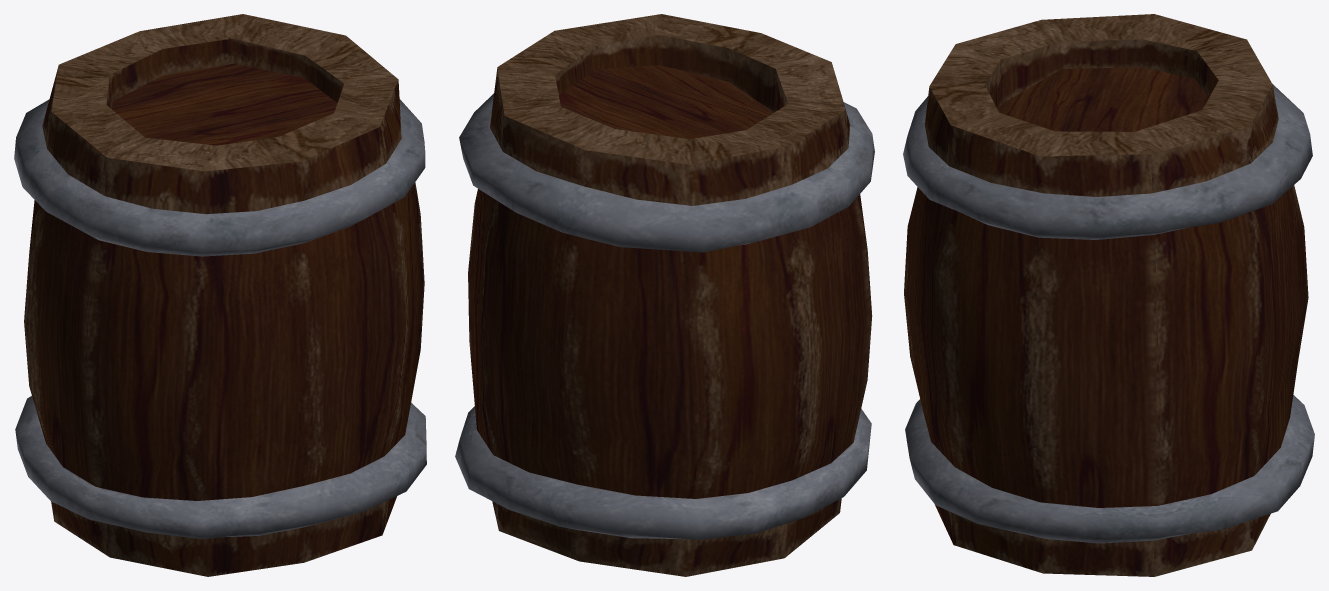
The model's file is Barrel.fbx.
The picture shows the model from 3 angles, left to right: view 1: azimuth 30°, elevation 25°; view 2: azimuth 150°, elevation 25°; view 3: azimuth 270°, elevation 25°; orthographic projection.
Parts seen in each view (by area): view 1: Barrel3; view 2: Barrel3; view 3: Barrel3.
Part boxes in pixels (bbox=[...]): Barrel3: bbox=[14, 14, 426, 576]; Barrel3: bbox=[455, 14, 874, 576]; Barrel3: bbox=[903, 14, 1314, 576].
Size of the model in its own units: 2.15 by 2.41 by 2.12.
